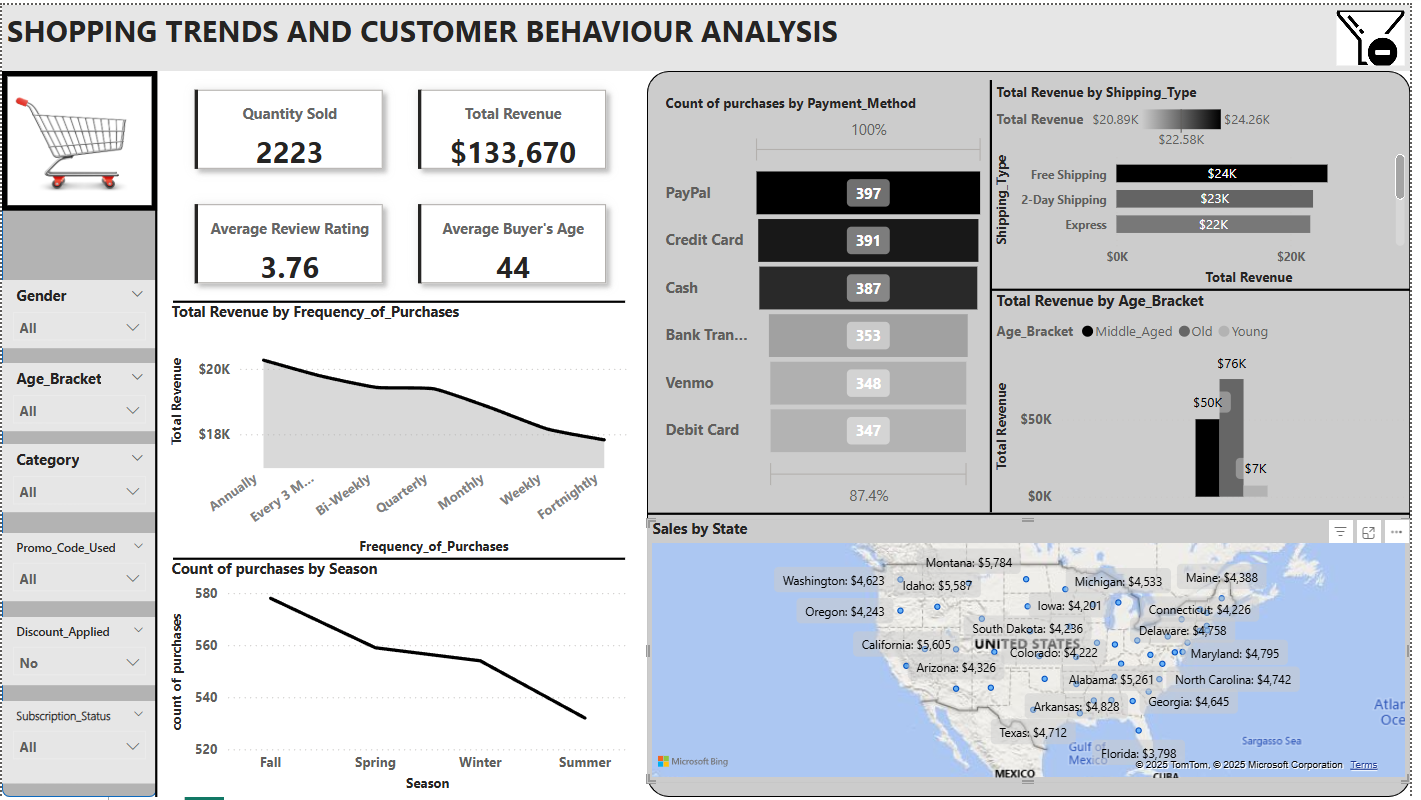

The dashboard page shown, as its layout file describes it:
{"tool":"powerbi","page":{"name":"Page 1","canvas":[1280,720],"ordinal":0},"visuals":[{"type":"cardVisual","fields":{"Data":["shopping.Quantity Sold","shopping.Total Revenue","shopping.Average Rating","shopping.Average Buyer's Age"]},"box":[158,60,408,210],"z":0},{"type":"shape","box":[586,60,694,660],"z":2000},{"type":"shape","box":[0,60,141,660],"z":3000},{"type":"areaChart","fields":{"Category":["shopping.Frequency_of_Purchases"],"Y":["shopping.Total Revenue"]},"box":[149,270,424,234],"z":4000},{"type":"map","fields":{"Category":["shopping.Sales by State"]},"box":[586,467,694,240],"z":7000},{"type":"funnel","title":"Count of purchases by Payment_Method","fields":{"Category":["shopping.Payment_Method"],"Y":["shopping.count of purchases"]},"box":[598,81,301,380],"z":8000},{"type":"clusteredBarChart","fields":{"Category":["shopping.Shipping_Type"],"Y":["shopping.Total Revenue"]},"box":[899,71,381,189],"z":9001},{"type":"lineChart","title":"Count of purchases by Season","fields":{"Category":["shopping.Season"],"Y":["shopping.count of purchases"]},"box":[149,504,424,216],"z":9002},{"type":"slicer","fields":{"Values":["shopping.Gender"]},"box":[0,250,141,62],"z":9003},{"type":"slicer","fields":{"Values":["shopping.Age_Bracket"]},"box":[0,325,141,62],"z":9004},{"type":"slicer","fields":{"Values":["shopping.Category"]},"box":[0,399,141,62],"z":9005},{"type":"slicer","fields":{"Values":["shopping.Promo_Code_Used"]},"box":[0,480,141,62],"z":9006},{"type":"slicer","fields":{"Values":["shopping.Discount_Applied"]},"box":[0,556,141,62],"z":9007},{"type":"slicer","fields":{"Values":["shopping.Subscription_Status"]},"box":[0,633,141,75],"z":9008},{"type":"clusteredColumnChart","fields":{"Y":["shopping.Total Revenue"],"Series":["shopping.Age_Bracket"]},"box":[899,260,381,201],"z":9009},{"type":"textbox","box":[0,0,1280,60],"z":9010},{"type":"image","box":[0,60,141,127],"z":9011},{"type":"shape","box":[155,237,411,65],"z":9012},{"type":"shape","box":[899,226,381,65],"z":9013},{"type":"shape","box":[860,68,78,393],"z":9014},{"type":"shape","box":[155,471,411,65],"z":9015},{"type":"shape","box":[586,430,694,65],"z":9016},{"type":"shape","box":[123,60,35,660],"z":9017},{"type":"image","title":"Clear Filters","box":[1208,0,72,60],"z":9018}]}

Visuals, with their boxes in screenshot pixels (x1, y1, x2, y2), scaled from the page's 1280x720 canvas onto the 1421x800 screenshot:
cardVisual - shopping.Quantity Sold x shopping.Total Revenue: box=[175, 67, 628, 300]
shape: box=[651, 67, 1420, 799]
shape: box=[0, 67, 157, 799]
areaChart - shopping.Frequency_of_Purchases x shopping.Total Revenue: box=[165, 300, 636, 560]
map - shopping.Sales by State: box=[651, 519, 1420, 786]
"Count of purchases by Payment_Method" funnel: box=[664, 90, 998, 512]
clusteredBarChart - shopping.Shipping_Type x shopping.Total Revenue: box=[998, 79, 1420, 289]
"Count of purchases by Season" lineChart: box=[165, 560, 636, 799]
slicer - shopping.Gender: box=[0, 278, 157, 347]
slicer - shopping.Age_Bracket: box=[0, 361, 157, 430]
slicer - shopping.Category: box=[0, 443, 157, 512]
slicer - shopping.Promo_Code_Used: box=[0, 533, 157, 602]
slicer - shopping.Discount_Applied: box=[0, 618, 157, 687]
slicer - shopping.Subscription_Status: box=[0, 703, 157, 787]
clusteredColumnChart - shopping.Total Revenue x shopping.Age_Bracket: box=[998, 289, 1420, 512]
textbox: box=[0, 0, 1420, 67]
image: box=[0, 67, 157, 208]
shape: box=[172, 263, 628, 336]
shape: box=[998, 251, 1420, 323]
shape: box=[955, 76, 1041, 512]
shape: box=[172, 523, 628, 596]
shape: box=[651, 478, 1420, 550]
shape: box=[137, 67, 175, 799]
"Clear Filters" image: box=[1341, 0, 1420, 67]
